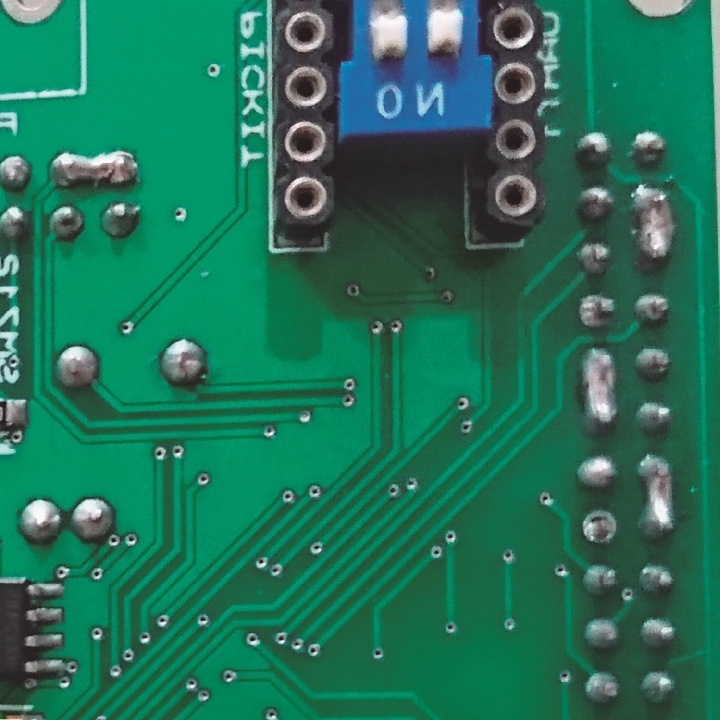F: (579, 507, 621, 552)
P: (43, 149, 144, 190), (575, 343, 618, 432), (630, 183, 676, 266), (639, 454, 677, 541)
